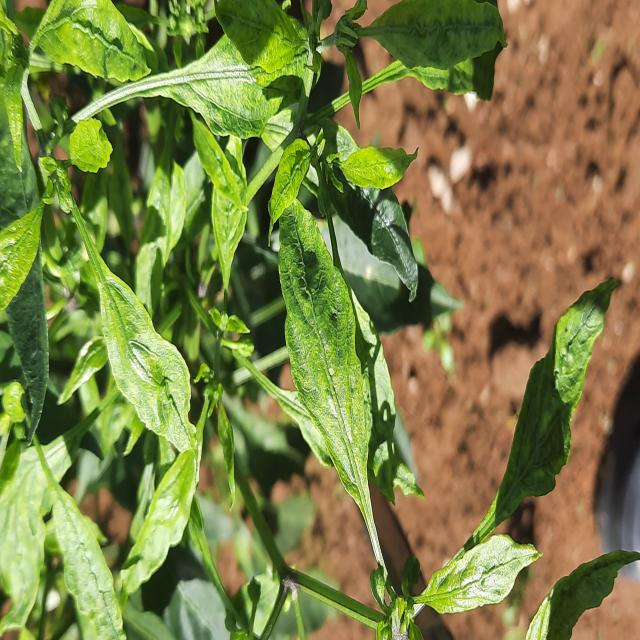thrips: (264, 182, 390, 516), (72, 233, 206, 464)
